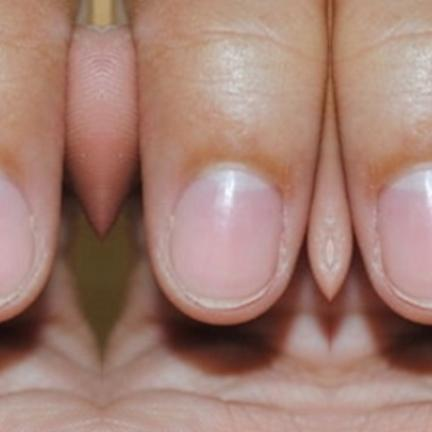Nail: (169, 169, 283, 306), (376, 169, 432, 306), (0, 174, 33, 302)
